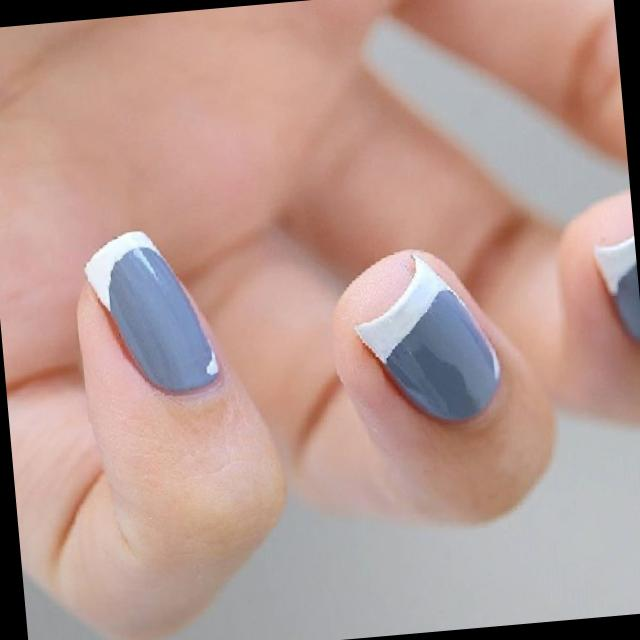Nail: (353, 254, 499, 421), (84, 231, 216, 393), (595, 237, 640, 340)
